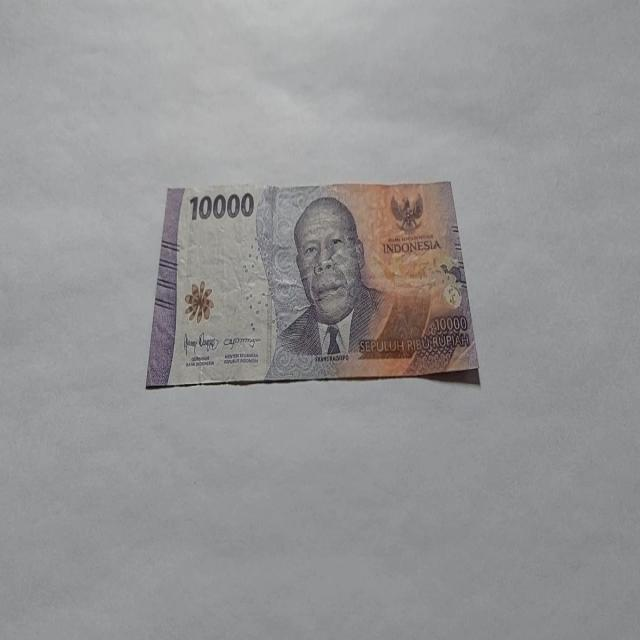sepuluh ribu rupiah: (145, 178, 480, 390)
